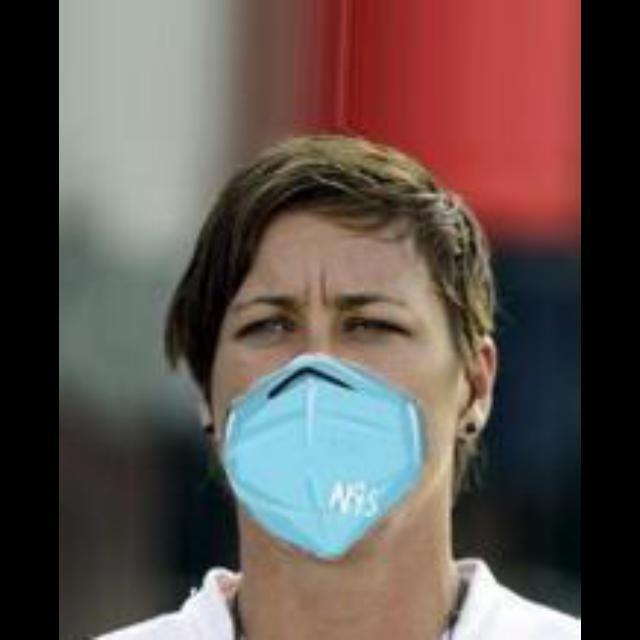suspicion: (149, 117, 545, 577)
